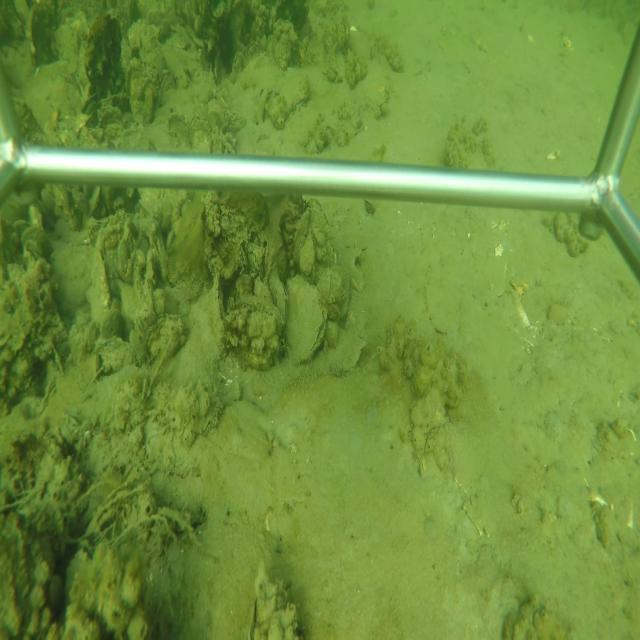Oyster-Closed: (188, 270, 228, 377), (286, 275, 330, 368), (86, 239, 113, 326), (306, 198, 333, 249)
